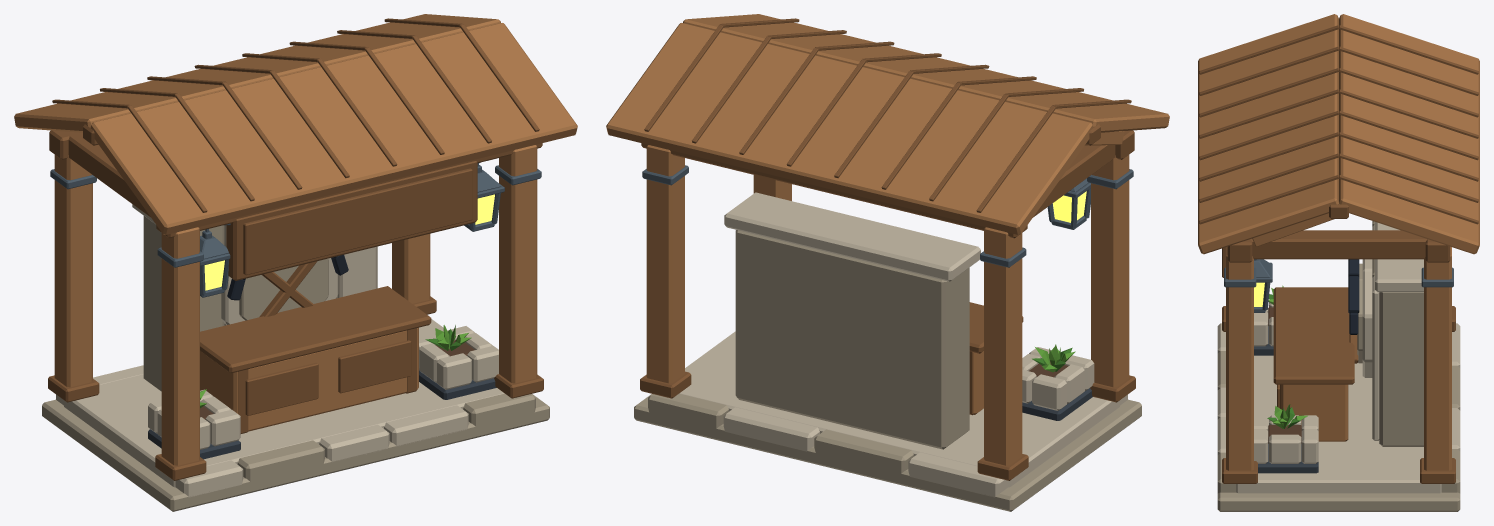
Rendered from Terminal_Kiosk.fbx.
3 renders of one model, left to right at view 1: azimuth 30°, elevation 25°; view 2: azimuth 150°, elevation 25°; view 3: azimuth 270°, elevation 25°, orthographic. The views are drawn at different scales.
Parts seen in each view (by area): view 1: Wood, WoodDark, Concrete, ConcreteDark, Title, Frame, Solo, Party, FrameDark, Glow; view 2: Wood, ConcreteDark, Concrete, WoodDark, Frame, FrameDark, Glow; view 3: Wood, WoodDark, Concrete, ConcreteDark, Frame, FrameDark, Slate, Soil, Leaf.
Boxes of the visible parts, x1=… form: Wood: x1=14, y1=14, x2=577, y2=465; WoodDark: x1=48, y1=18, x2=543, y2=480; Concrete: x1=56, y1=204, x2=504, y2=497; ConcreteDark: x1=42, y1=216, x2=549, y2=511; Title: x1=243, y1=168, x2=472, y2=275; Frame: x1=50, y1=162, x2=541, y2=297; Solo: x1=245, y1=362, x2=318, y2=415; Party: x1=338, y1=340, x2=411, y2=393; FrameDark: x1=148, y1=370, x2=496, y2=459; Glow: x1=204, y1=194, x2=494, y2=290; Wood: x1=606, y1=14, x2=1169, y2=465; ConcreteDark: x1=634, y1=230, x2=1141, y2=511; Concrete: x1=679, y1=192, x2=1127, y2=497; WoodDark: x1=640, y1=18, x2=1135, y2=480; Frame: x1=642, y1=165, x2=1133, y2=267; FrameDark: x1=1022, y1=388, x2=1092, y2=420; Glow: x1=1053, y1=191, x2=1086, y2=222; Wood: x1=1198, y1=14, x2=1479, y2=470; WoodDark: x1=1199, y1=25, x2=1478, y2=483; Concrete: x1=1217, y1=222, x2=1460, y2=493; ConcreteDark: x1=1217, y1=221, x2=1460, y2=511; Frame: x1=1224, y1=259, x2=1453, y2=312; FrameDark: x1=1254, y1=326, x2=1318, y2=473; Slate: x1=1348, y1=259, x2=1359, y2=334; Soil: x1=1268, y1=307, x2=1301, y2=443; Leaf: x1=1268, y1=285, x2=1307, y2=428.
Bounding box in the file's own units: 9.9 × 8.02 × 6.27.
